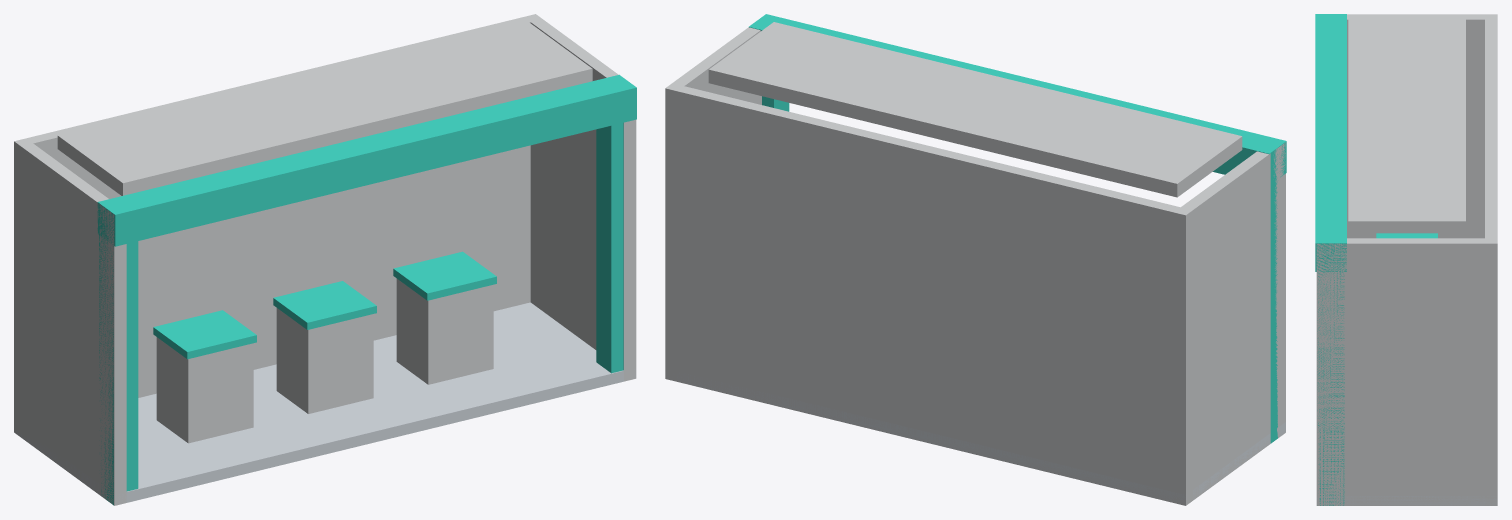
3 renders of one model, left to right at view 1: azimuth 30°, elevation 25°; view 2: azimuth 150°, elevation 25°; view 3: azimuth 270°, elevation 25°, orthographic. The views are drawn at different scales.
Parts seen in each view (by area): view 1: Exhibition Booth Concept; view 2: Exhibition Booth Concept; view 3: Exhibition Booth Concept.
Part boxes in pixels (x1=…): Exhibition Booth Concept: x1=14, y1=14, x2=636, y2=505; Exhibition Booth Concept: x1=665, y1=14, x2=1286, y2=505; Exhibition Booth Concept: x1=1315, y1=14, x2=1497, y2=505.
Bounding box in the file's own units: 6 × 3.34 × 2.01.
